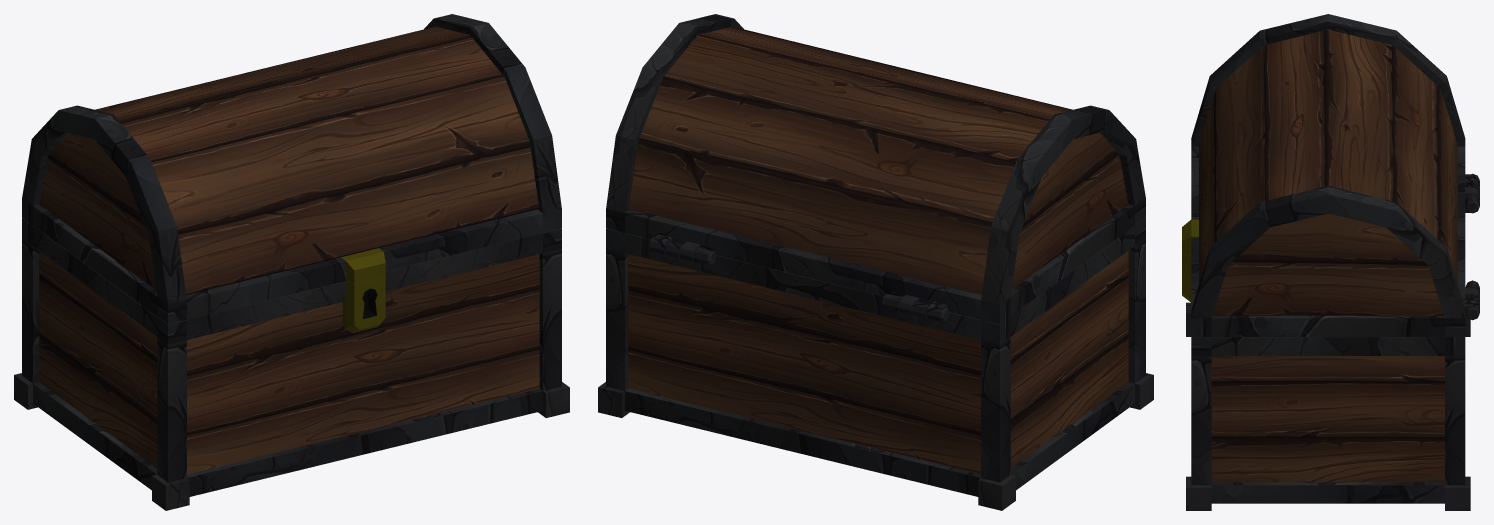
The model's file is Low_Poly_Chest [2.0] GLTF.glb.
The picture shows the model from 3 angles, left to right: view 1: azimuth 30°, elevation 25°; view 2: azimuth 150°, elevation 25°; view 3: azimuth 270°, elevation 25°; orthographic projection. The views are drawn at different scales.
Parts seen in each view (by area): view 1: Chest_Top, Chest_Bottom; view 2: Chest_Top, Chest_Bottom; view 3: Chest_Top, Chest_Bottom.
Part boxes in pixels (left/top/right/bottom): Chest_Top: left=22, top=14, right=561, bottom=324; Chest_Bottom: left=14, top=218, right=569, bottom=510; Chest_Top: left=606, top=14, right=1145, bottom=324; Chest_Bottom: left=598, top=218, right=1153, bottom=510; Chest_Top: left=1182, top=14, right=1479, bottom=336; Chest_Bottom: left=1182, top=173, right=1479, bottom=510.
Size of the model in its own units: 1.26 by 0.9998 by 0.8587.
Materials: 1 (1 with a texture image).
